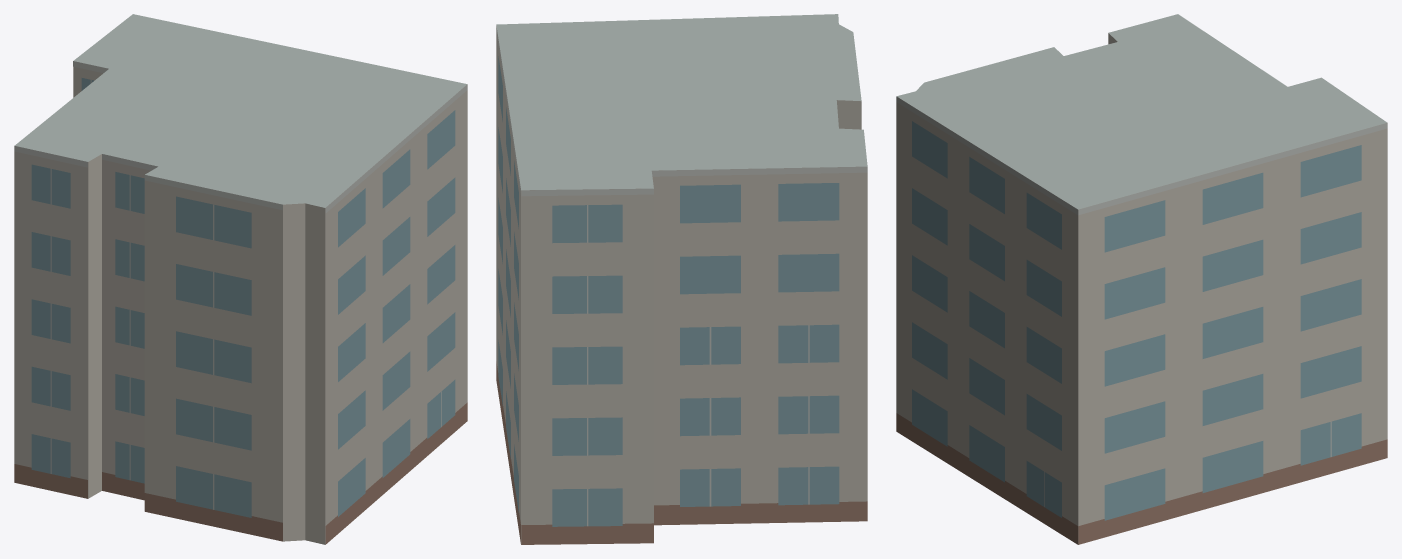
Rendered from survey-upis-32823444.glb.
The picture shows the model from 3 angles, left to right: view 1: azimuth 30°, elevation 25°; view 2: azimuth 150°, elevation 25°; view 3: azimuth 270°, elevation 25°; orthographic projection. The views are drawn at different scales.
Visible parts, largest first — view 1: survey-upis-32823444.tmp; view 2: survey-upis-32823444.tmp; view 3: survey-upis-32823444.tmp.
Part boxes in pixels (x1,y1,x2,y2): survey-upis-32823444.tmp: (14, 14, 467, 544); survey-upis-32823444.tmp: (496, 14, 867, 544); survey-upis-32823444.tmp: (896, 14, 1387, 544).
Bounding box in the file's own units: 17.9 × 14.3 × 19.
